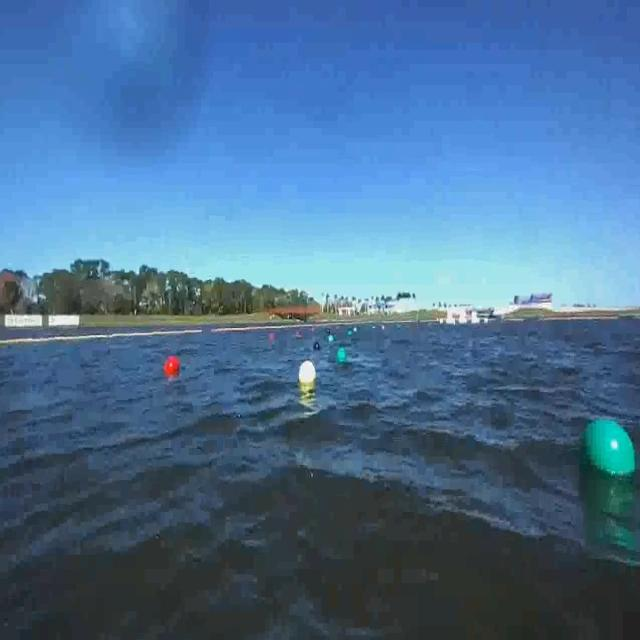black-buoy: (314, 340, 322, 353)
green-buoy: (574, 417, 638, 484), (338, 346, 348, 364)
red-buoy: (163, 356, 180, 377)
yellow-buoy: (300, 360, 317, 390)
